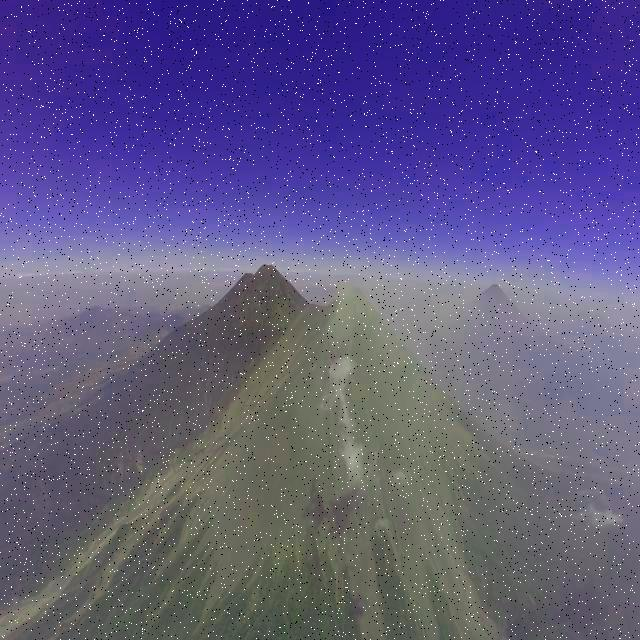Summit: (326, 288, 379, 320)
